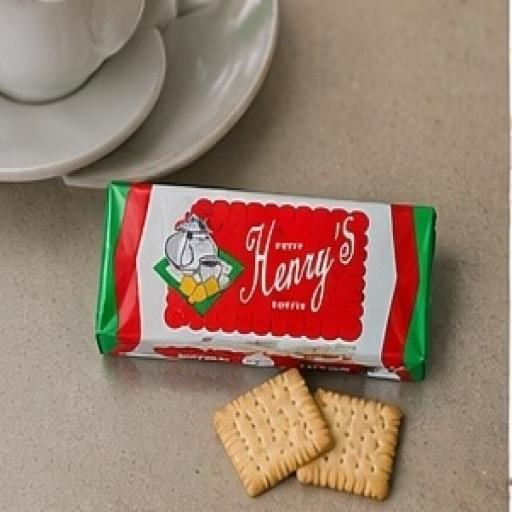golden: (38, 134, 493, 417)
